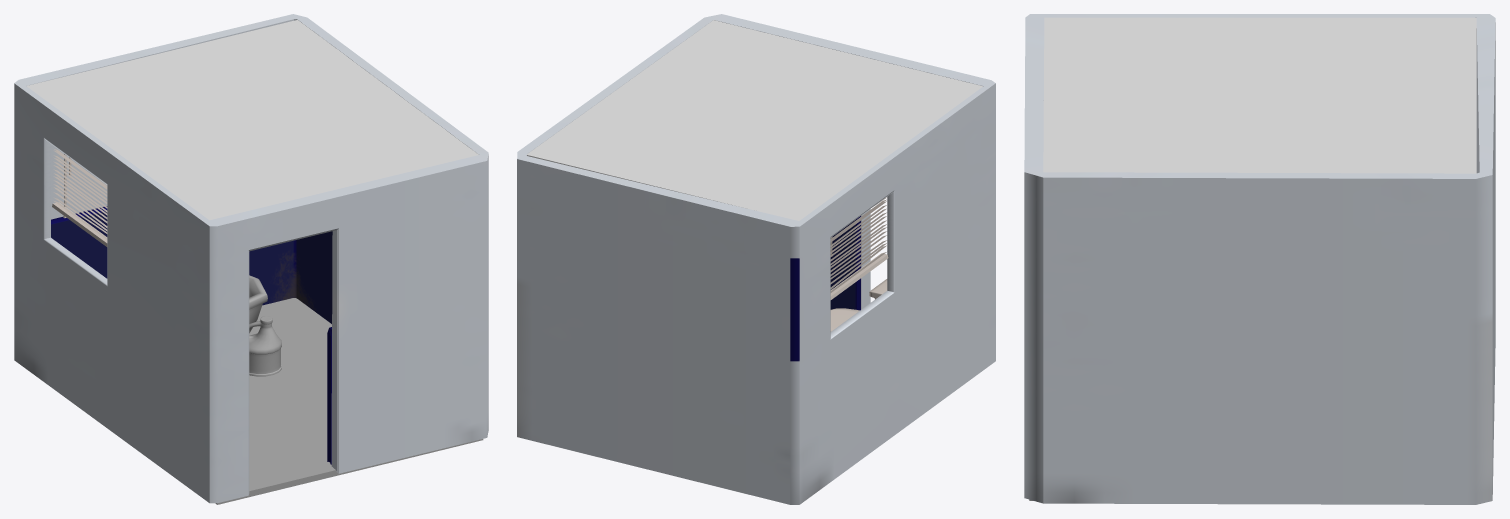
Rendered from ROOM TEXTURES ALL.fbx.
3 renders of one model, left to right at view 1: azimuth 30°, elevation 25°; view 2: azimuth 150°, elevation 25°; view 3: azimuth 270°, elevation 25°, orthographic. The views are drawn at different scales.
Parts seen in each view (by area): view 1: room, Bathroom_Ceiling, Bathroom_Floor, Bathroom_Blinds, Bathroom_Bleach, tub_base; view 2: room, Bathroom_Ceiling, Bathroom_Blinds, Bathroom_Toilet; view 3: room, Bathroom_Ceiling.
Part boxes in pixels (x1=…): room: x1=14, y1=14, x2=488, y2=503; Bathroom_Ceiling: x1=26, y1=20, x2=478, y2=220; Bathroom_Floor: x1=215, y1=298, x2=483, y2=504; Bathroom_Blinds: x1=52, y1=149, x2=107, y2=246; Bathroom_Bleach: x1=249, y1=316, x2=281, y2=376; tub_base: x1=249, y1=275, x2=267, y2=333; room: x1=517, y1=14, x2=995, y2=504; Bathroom_Ceiling: x1=526, y1=20, x2=982, y2=220; Bathroom_Blinds: x1=830, y1=197, x2=888, y2=299; Bathroom_Toilet: x1=830, y1=279, x2=887, y2=331; room: x1=1024, y1=14, x2=1495, y2=504; Bathroom_Ceiling: x1=1043, y1=17, x2=1476, y2=173.
Size of the model in its own units: 7.53 by 7.02 by 9.07.
